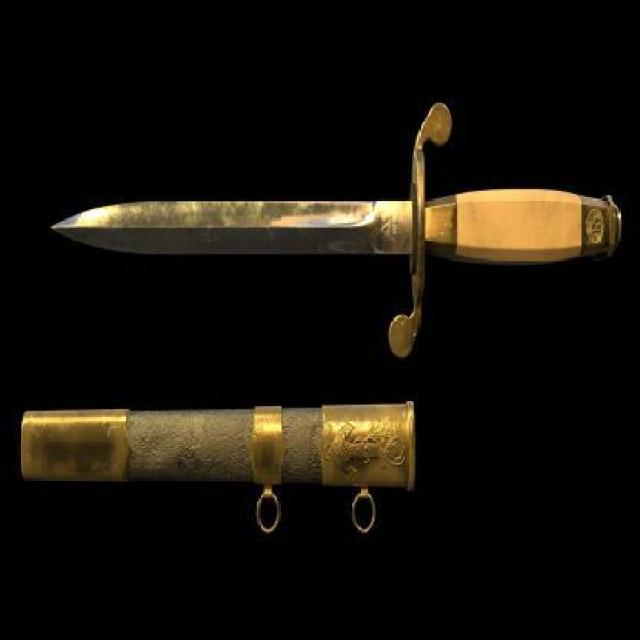weapon: (25, 80, 633, 390)
